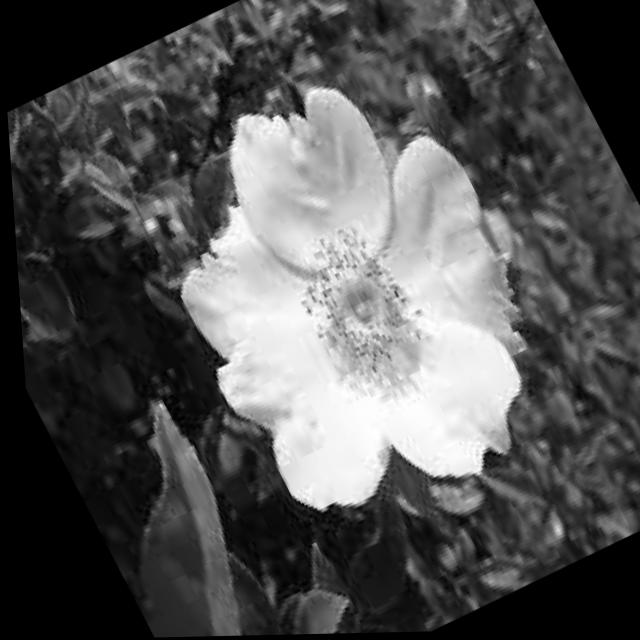Flower: (79, 29, 590, 549)
